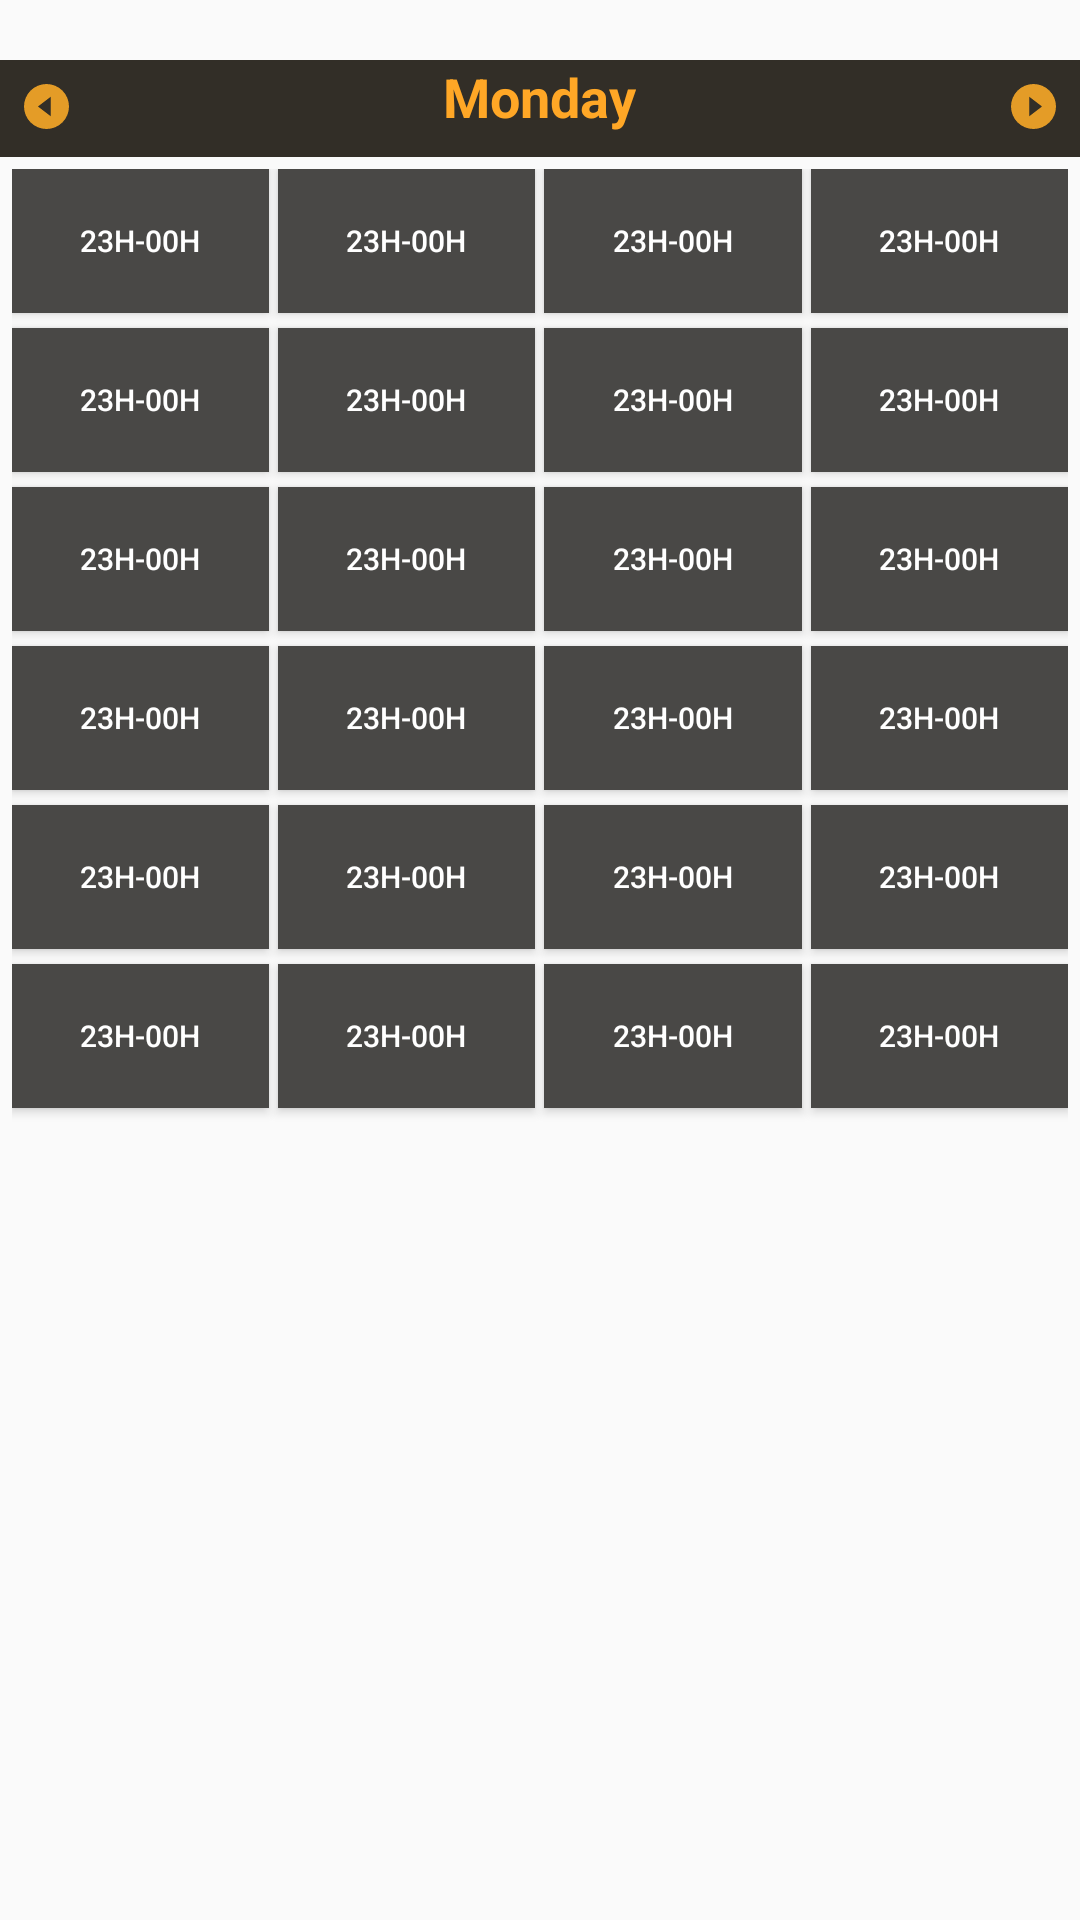

Screen size 1080x1920. Icon name, then its box in pixels as (x1, y1, x2, y2):
next: (1011, 84, 1056, 129)
prev: (24, 84, 69, 129)
